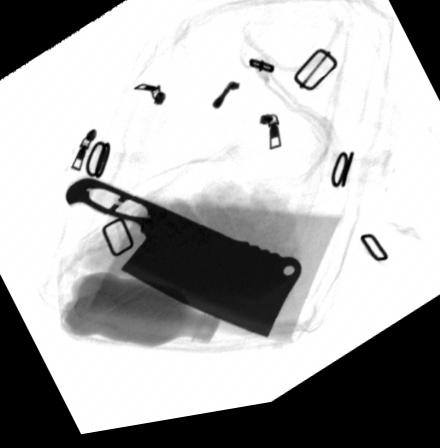Knife: (64, 178, 304, 348)
